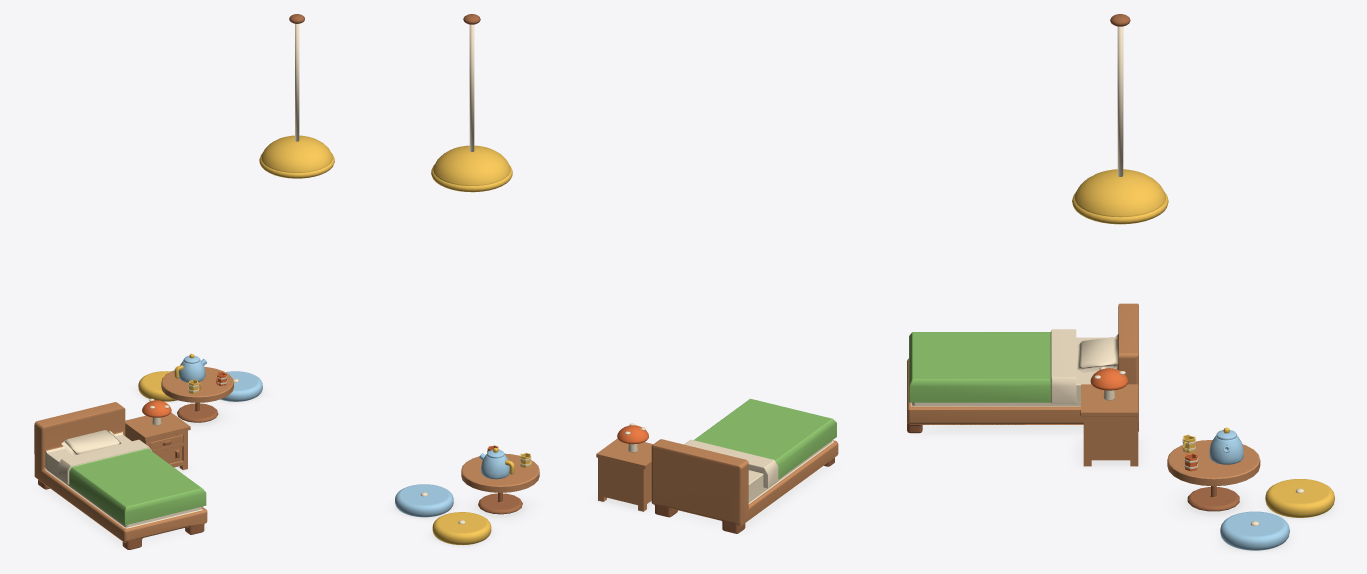
The model's file is room_base_v1.glb.
3 views of the same model, side by side, from view 1: azimuth 30°, elevation 25°; view 2: azimuth 150°, elevation 25°; view 3: azimuth 270°, elevation 25° (orthographic). The views are drawn at different scales.
Visible parts, largest first — view 1: bed_blanket, bed_frame, round_table_top, ceiling_lamp_cap, nightstand_body, shadow_bed, bed_pillow, cushion_sky_body, cushion_yellow_body, round_table_teapot_body, ceiling_lamp_cord, shadow_round_table (+2 smaller); view 2: bed_frame, bed_blanket, nightstand_body, round_table_top, ceiling_lamp_cap, cushion_sky_body, cushion_yellow_body, shadow_bed, shadow_round_table, round_table_teapot_body, ceiling_lamp_cord; view 3: bed_blanket, bed_frame, nightstand_body, round_table_top, ceiling_lamp_cap, cushion_sky_body, cushion_yellow_body, shadow_bed, bed_pillow, shadow_round_table, ceiling_lamp_cord, round_table_teapot_body (+3 smaller).
Boxes of the visible parts, bbox=[...] form: bed_blanket: bbox=[58, 439, 206, 525]; bed_frame: bbox=[34, 402, 207, 549]; round_table_top: bbox=[161, 367, 233, 422]; ceiling_lamp_cap: bbox=[261, 135, 332, 172]; nightstand_body: bbox=[125, 412, 190, 469]; shadow_bed: bbox=[37, 486, 188, 549]; bed_pillow: bbox=[61, 430, 122, 455]; cushion_sky_body: bbox=[220, 371, 262, 401]; cushion_yellow_body: bbox=[138, 371, 177, 401]; round_table_teapot_body: bbox=[174, 353, 206, 382]; ceiling_lamp_cord: bbox=[295, 24, 299, 141]; shadow_round_table: bbox=[172, 403, 231, 430]; bed_frame: bbox=[651, 439, 838, 533]; bed_blanket: bbox=[684, 398, 836, 488]; nightstand_body: bbox=[596, 438, 652, 511]; round_table_top: bbox=[461, 453, 539, 514]; ceiling_lamp_cap: bbox=[433, 145, 510, 185]; cushion_sky_body: bbox=[395, 484, 453, 517]; cushion_yellow_body: bbox=[432, 512, 491, 545]; shadow_bed: bbox=[654, 464, 835, 532]; shadow_round_table: bbox=[464, 493, 536, 523]; round_table_teapot_body: bbox=[479, 447, 514, 479]; ceiling_lamp_cord: bbox=[469, 24, 474, 151]; bed_blanket: bbox=[909, 329, 1076, 403]; bed_frame: bbox=[907, 303, 1138, 433]; nightstand_body: bbox=[1081, 384, 1138, 466]; round_table_top: bbox=[1167, 440, 1260, 511]; ceiling_lamp_cap: bbox=[1074, 169, 1165, 217]; cushion_sky_body: bbox=[1220, 511, 1289, 550]; cushion_yellow_body: bbox=[1265, 479, 1334, 517]; shadow_bed: bbox=[911, 425, 1083, 436]; bed_pillow: bbox=[1077, 337, 1118, 372]; shadow_round_table: bbox=[1173, 487, 1253, 520]; ceiling_lamp_cord: bbox=[1117, 26, 1123, 176]; round_table_teapot_body: bbox=[1209, 427, 1243, 464].
Bounding box in the file's own units: 3.45 × 4.52 × 3.6.
8 materials, 1 textured.
